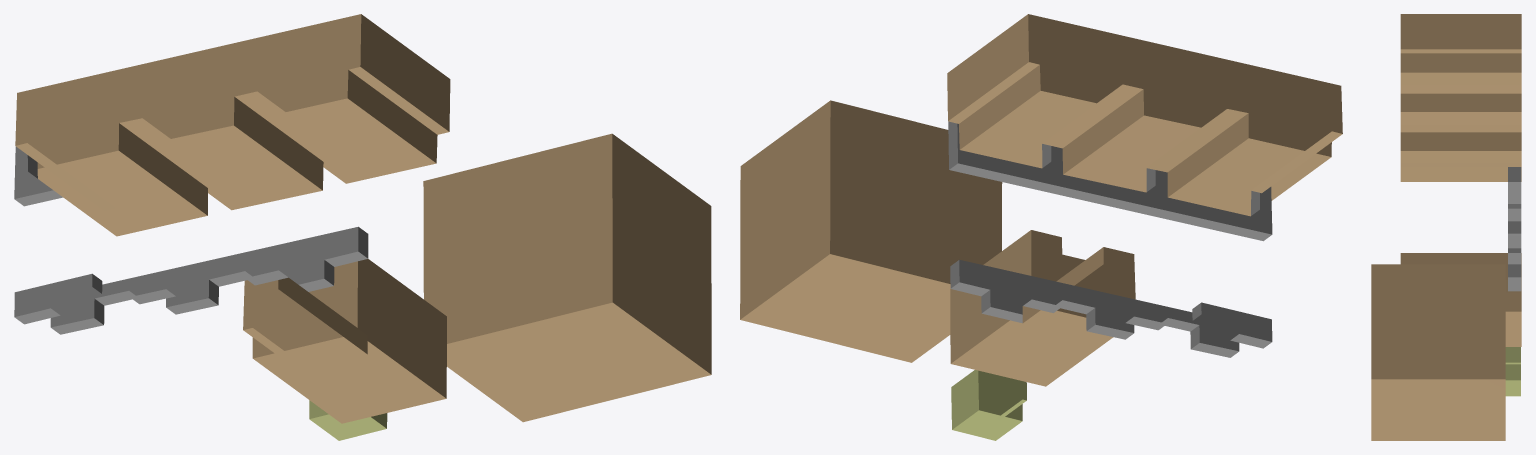
3 renders of one model, left to right at view 1: azimuth 30°, elevation 25°; view 2: azimuth 150°, elevation 25°; view 3: azimuth 270°, elevation 25°, orthographic. The views are drawn at different scales.
Parts seen in each view (by area): view 1: 0_0_3_1_2_3_1_0; view 2: 0_0_3_1_2_3_1_0; view 3: 0_0_3_1_2_3_1_0.
Part boxes in pixels (left/top/right/bottom): 0_0_3_1_2_3_1_0: left=14, top=14, right=711, bottom=440; 0_0_3_1_2_3_1_0: left=740, top=14, right=1342, bottom=440; 0_0_3_1_2_3_1_0: left=1371, top=14, right=1521, bottom=440.
Bounding box in the file's own units: 103 × 66.39 × 33.6.
